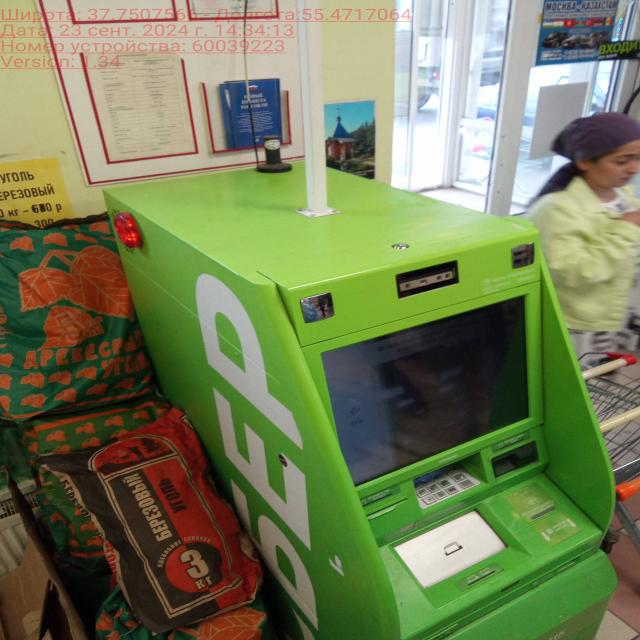bank: (99, 154, 619, 640)
